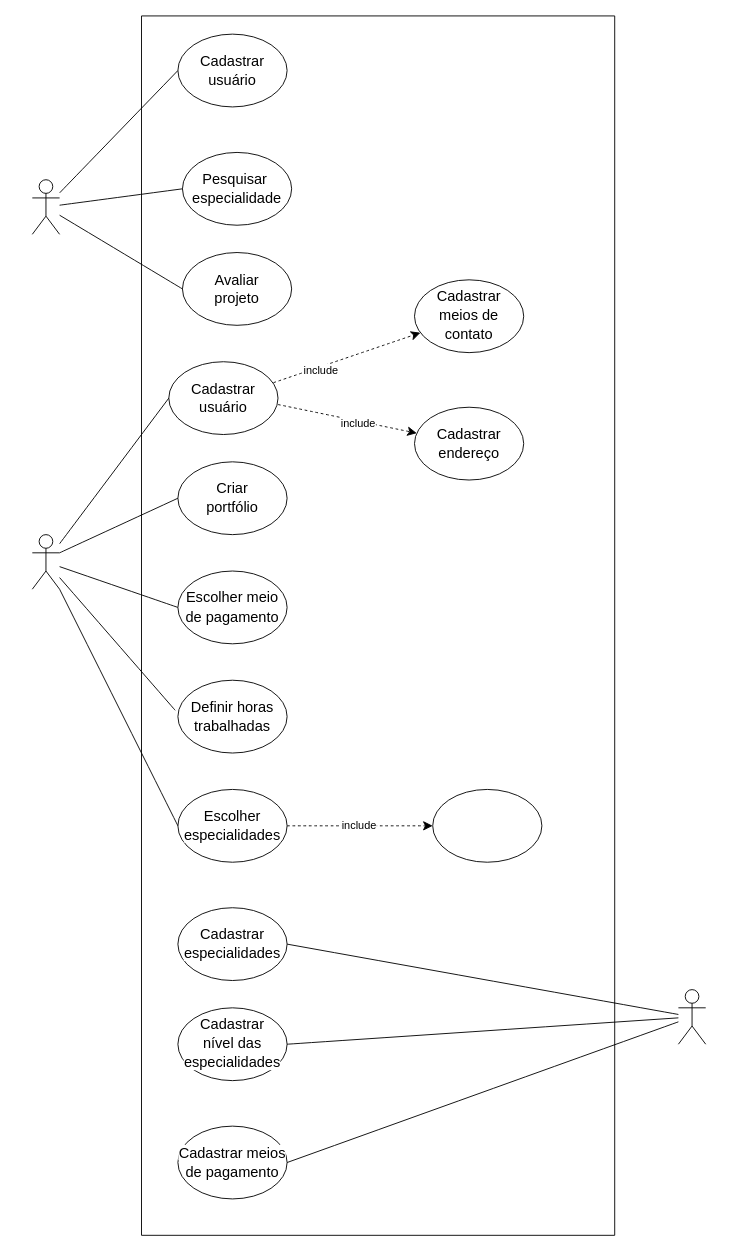
This 741x1251 diagram has some shape labels left out. Each missing label, with the centre of its shape:
"Administrador" belongs at (691,1016).
"Cliente" belongs at (45,206).
"Escolher nível das especialid ades" belongs at (487,825).
"Fotógrafo(a)" belongs at (45,561).
